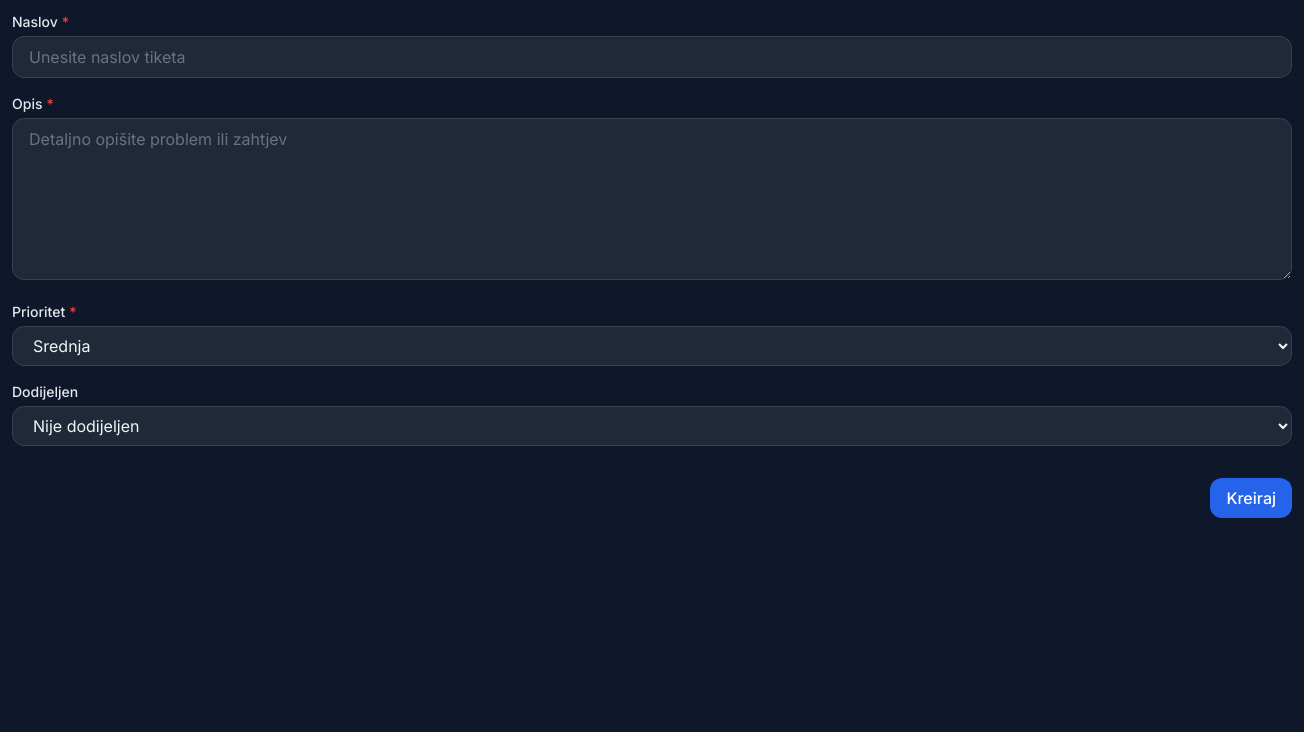
it: TicketForm Component › Validation › displays validation error for empty title in Croatian
Click the button "Kreiraj" at (1251, 498), box [1210,478,1292,518]
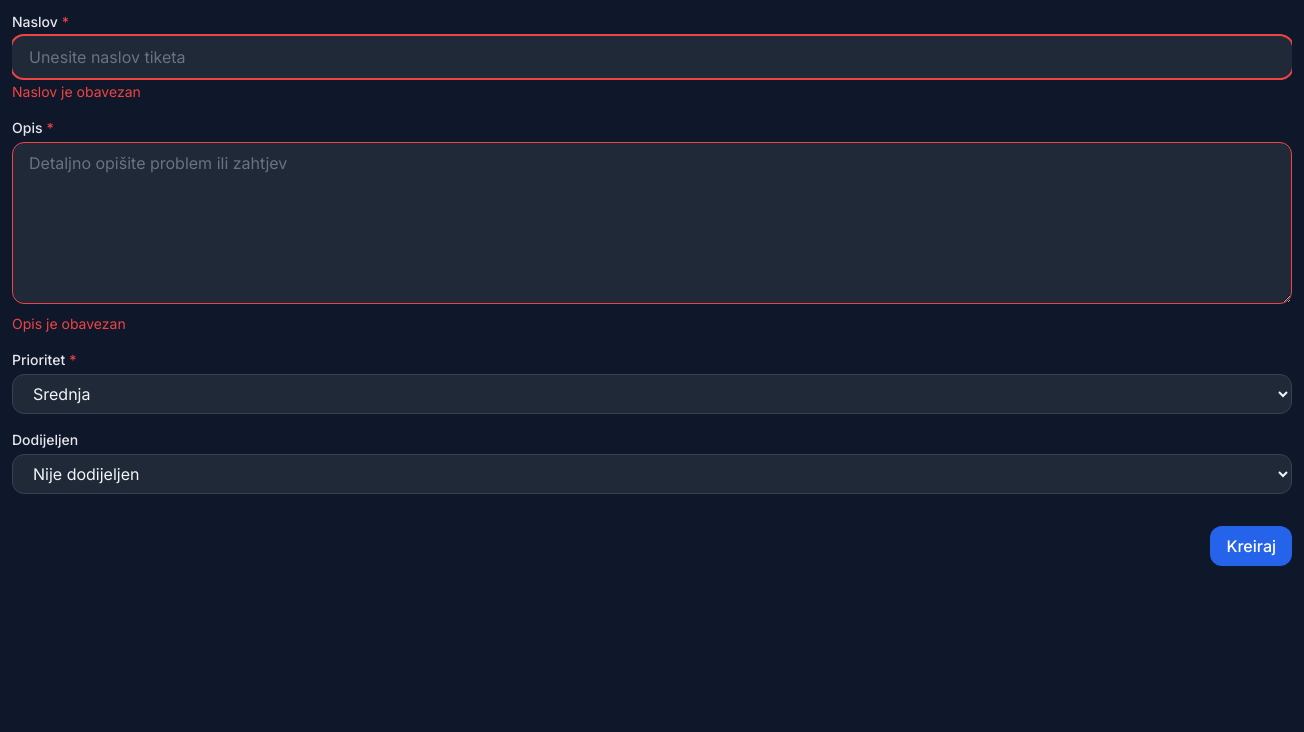
Check: the text "Naslov je obavezan" is shown, box [12,83,141,100]
